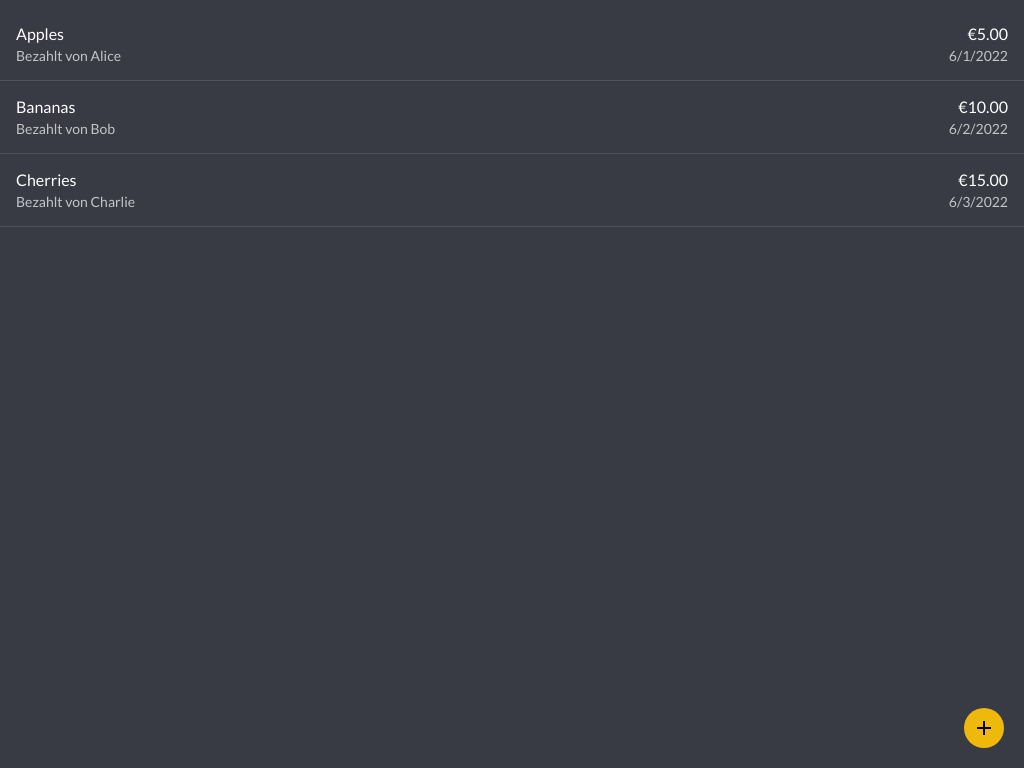
it: TransactionList Component › click on transaction
# click on list item
What coordinates should you click on to do the following:
click the button with test id "transactionListItemButton" showing "Apples Bezahlt von Alice"
I would click on:
 (69, 44)
Its box is [16, 24, 121, 64].
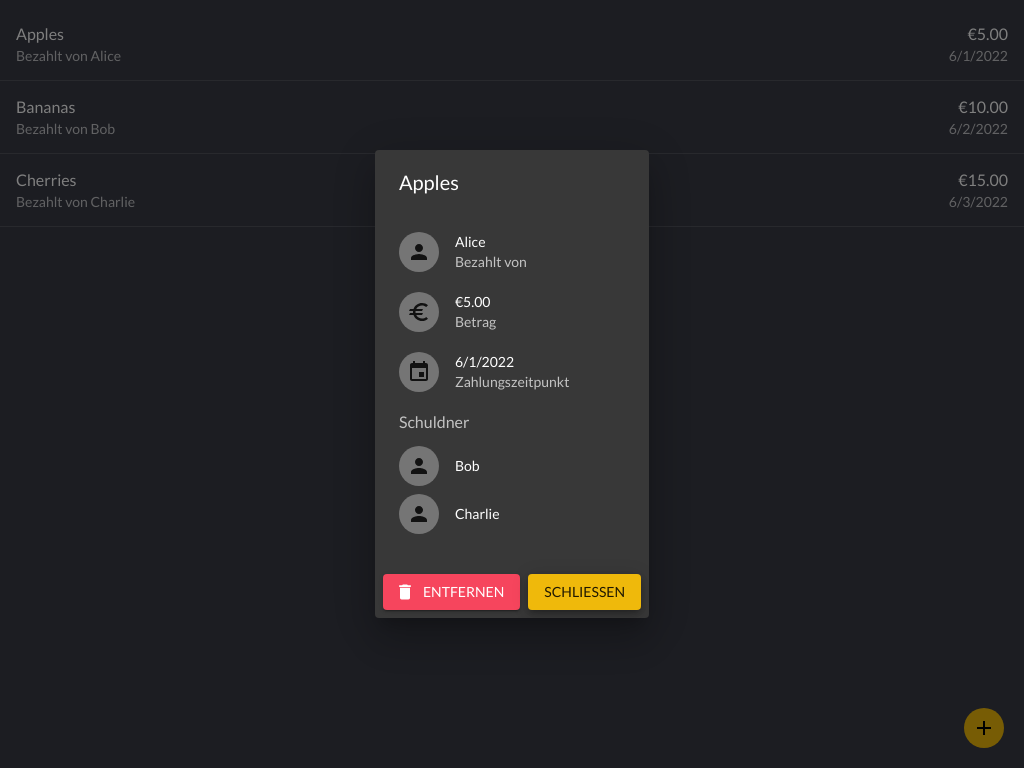
Expected: the element with test id "transactionDetailDialog" is shown
